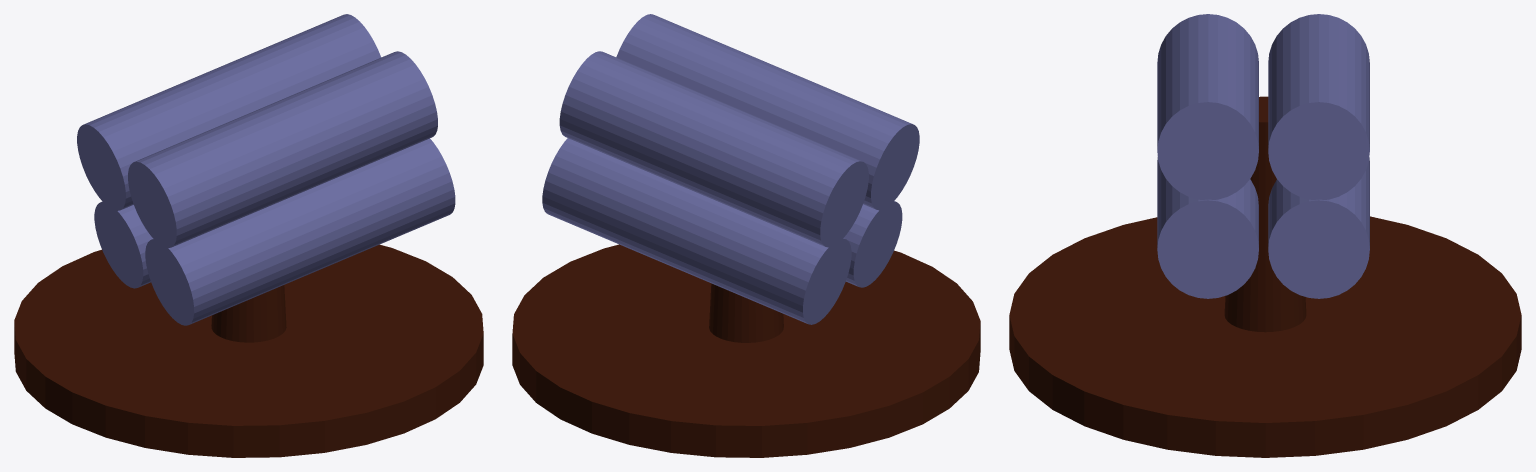
The model's file is rOKET.fbx.
3 views of the same model, side by side, from view 1: azimuth 30°, elevation 25°; view 2: azimuth 150°, elevation 25°; view 3: azimuth 270°, elevation 25° (orthographic). The views are drawn at different scales.
Visible parts, largest first — view 1: Circle, Cylinder.002, Cylinder.001, Cylinder.003, Cylinder.000; view 2: Circle, Cylinder.003, Cylinder.000, Cylinder.002, Cylinder.001; view 3: Circle, Cylinder.003, Cylinder.002, Cylinder.001, Cylinder.000.
Boxes of the visible parts, bbox=[...] form: Circle: bbox=[14, 244, 483, 457]; Cylinder.002: bbox=[128, 51, 437, 248]; Cylinder.001: bbox=[145, 138, 455, 325]; Cylinder.003: bbox=[77, 14, 381, 210]; Cylinder.000: bbox=[94, 201, 153, 288]; Circle: bbox=[512, 244, 980, 457]; Cylinder.003: bbox=[559, 51, 868, 247]; Cylinder.000: bbox=[542, 138, 851, 324]; Cylinder.002: bbox=[616, 14, 919, 210]; Cylinder.001: bbox=[844, 201, 902, 287]; Circle: bbox=[1009, 96, 1521, 457]; Cylinder.003: bbox=[1268, 14, 1369, 199]; Cylinder.002: bbox=[1157, 14, 1258, 199]; Cylinder.001: bbox=[1157, 157, 1258, 298]; Cylinder.000: bbox=[1268, 157, 1369, 298].
Bounding box in the file's own units: 200 × 137 × 200.
